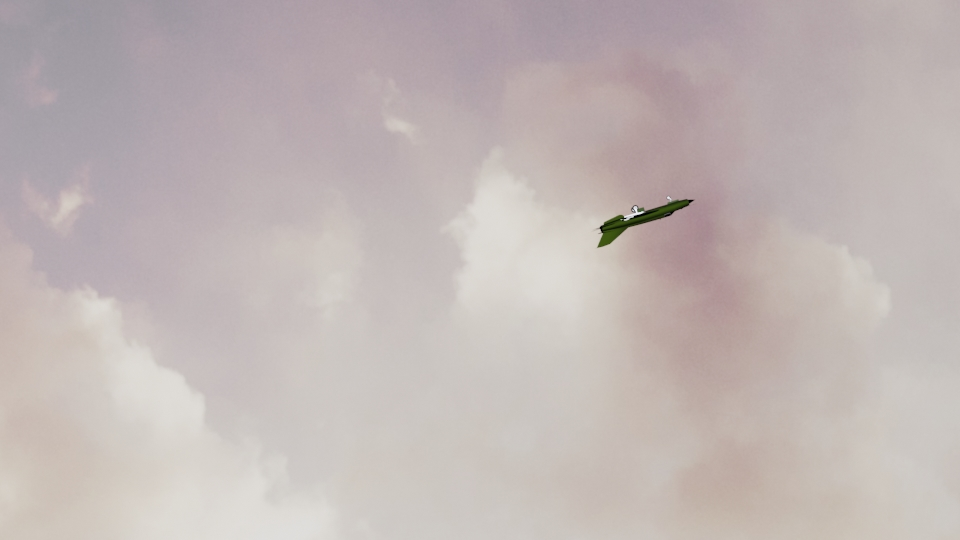plane: (595, 193, 697, 246)
